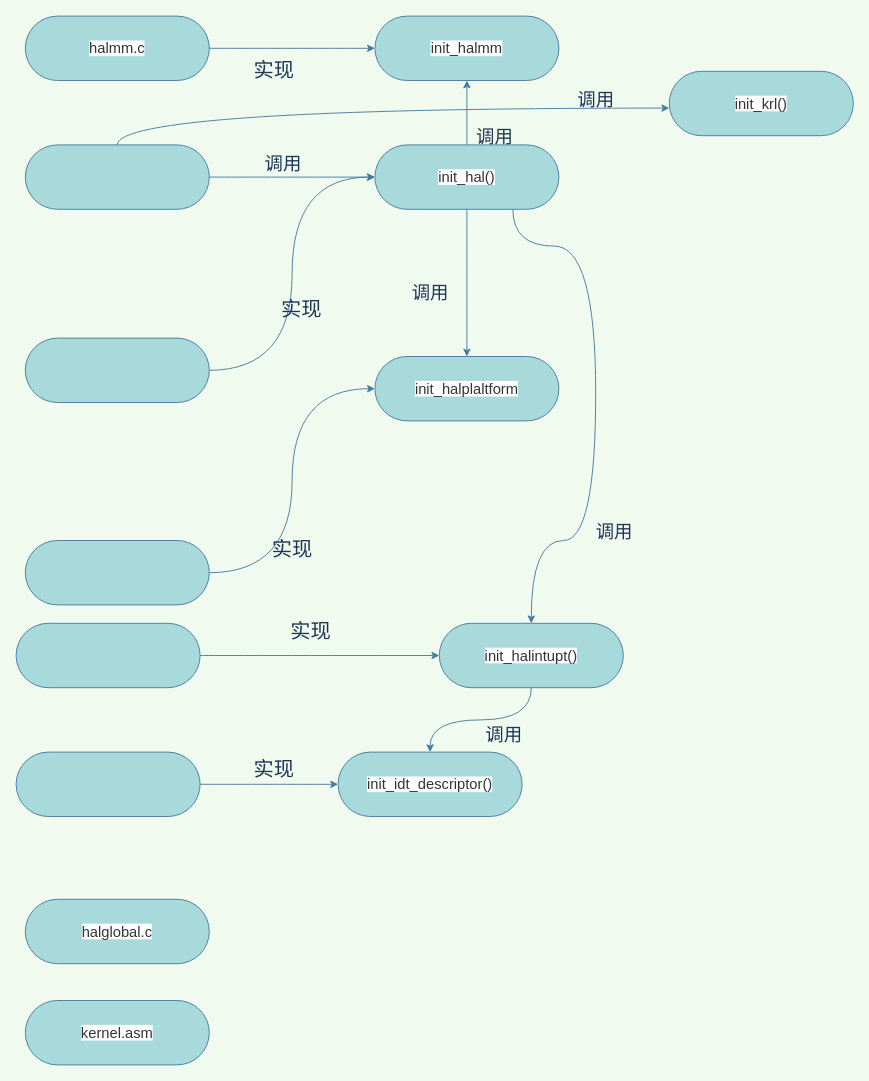
Image size: 869x1081. Some labels were removed from this diagram. Here are the shapes that lost their labels. From the top down, the centre of each, then its label:
At (x=116, y=176): "hal_start".
At (x=116, y=369): "halinit.c".
At (x=116, y=572): "halplatform.c".
At (x=107, y=655): "halintupt.c".
At (x=107, y=783): "halsgdidt.c".
